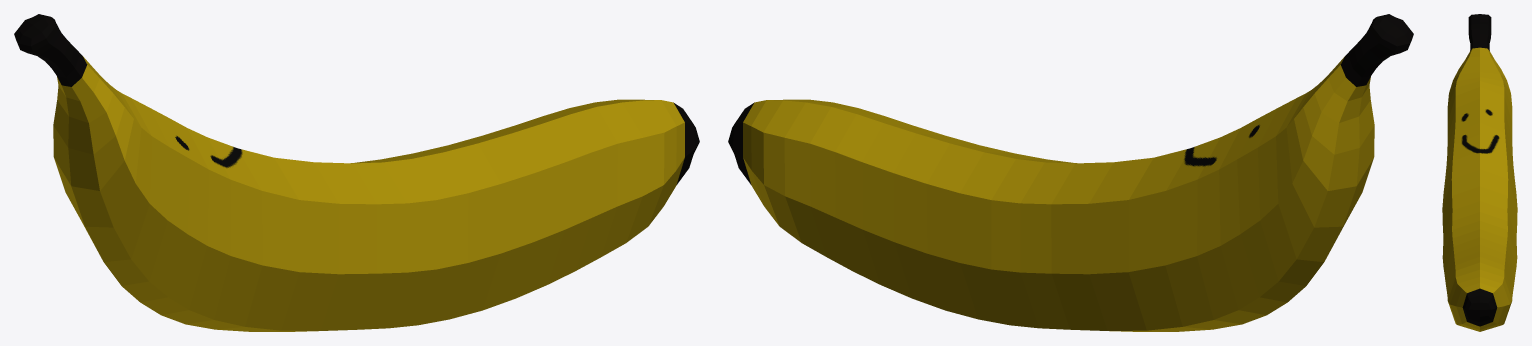
Rendered from banana.fbx.
3 renders of one model, left to right at view 1: azimuth 30°, elevation 25°; view 2: azimuth 150°, elevation 25°; view 3: azimuth 270°, elevation 25°, orthographic. The views are drawn at different scales.
Visible parts, largest first — view 1: node_id4 (×2); view 2: node_id4 (×2); view 3: node_id4 (×2).
Part boxes in pixels (<box>): node_id4 (×2): <box>14,14,699,331</box>; node_id4 (×2): <box>728,14,1413,331</box>; node_id4 (×2): <box>1442,14,1517,331</box>.
Size of the model in its own units: 0.3669 by 0.2054 by 0.0706.
Materials: 2 (1 with a texture image).
